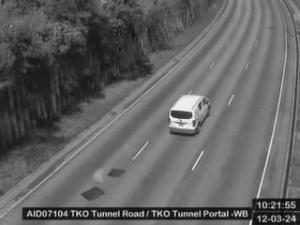vehicle: (168, 94, 210, 136)
